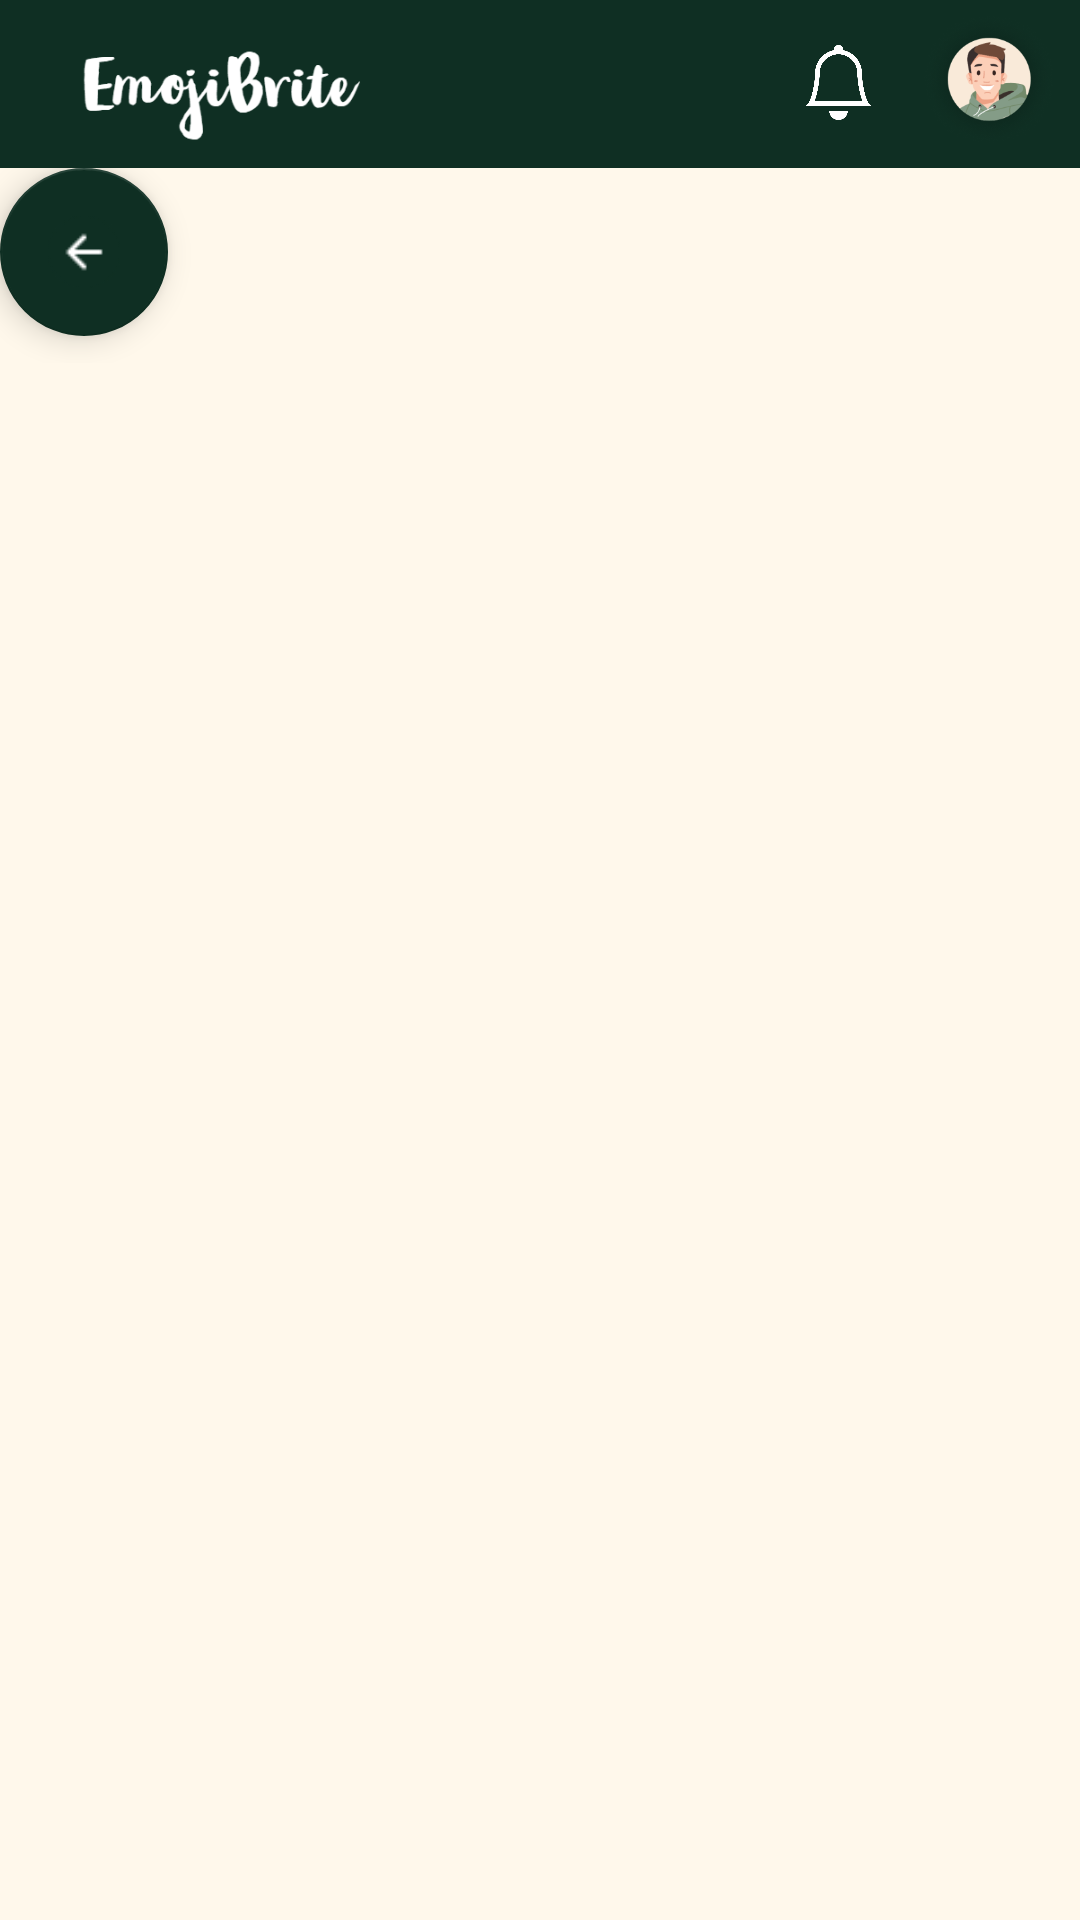

Point at icon controls on the screen. Image size 1080 × 1920, points as (x,y).
back: (84,252)
bi bell: (838,82)
profile pic: (989,79)
